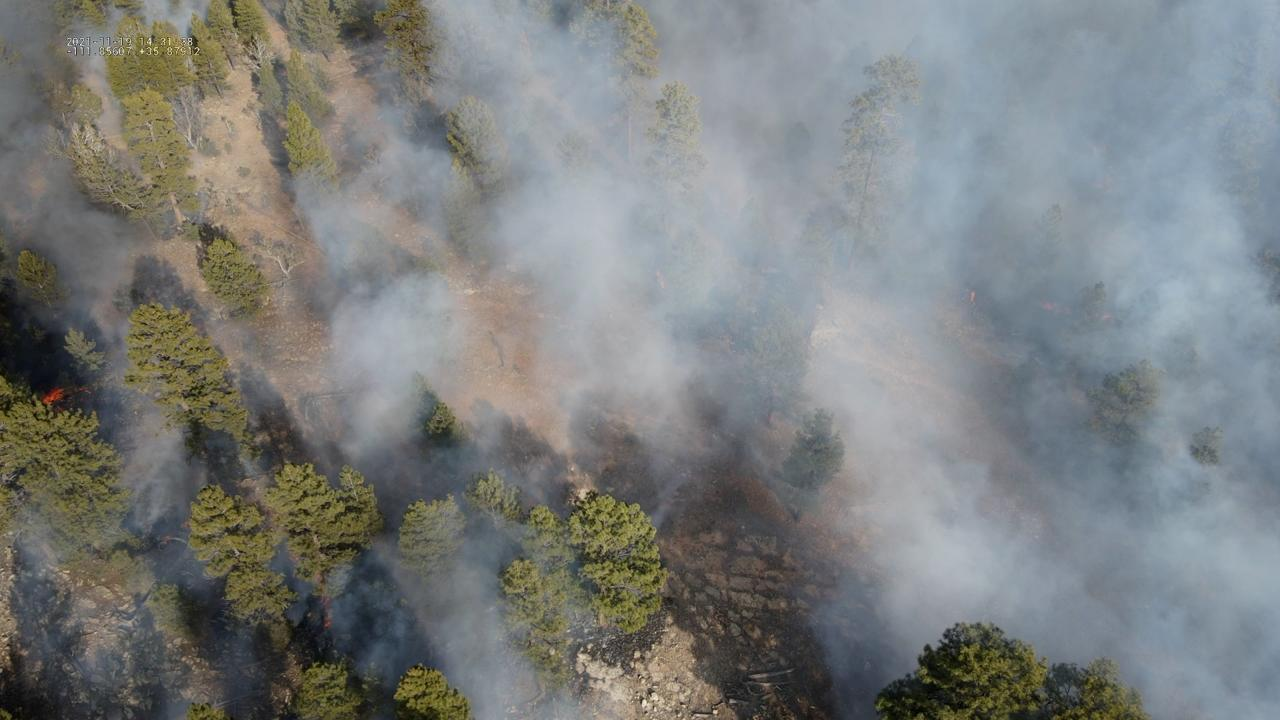fire: (40, 382, 90, 407), (1038, 300, 1058, 314), (968, 289, 976, 304), (322, 620, 333, 630)
smoke: (0, 0, 1280, 720)
